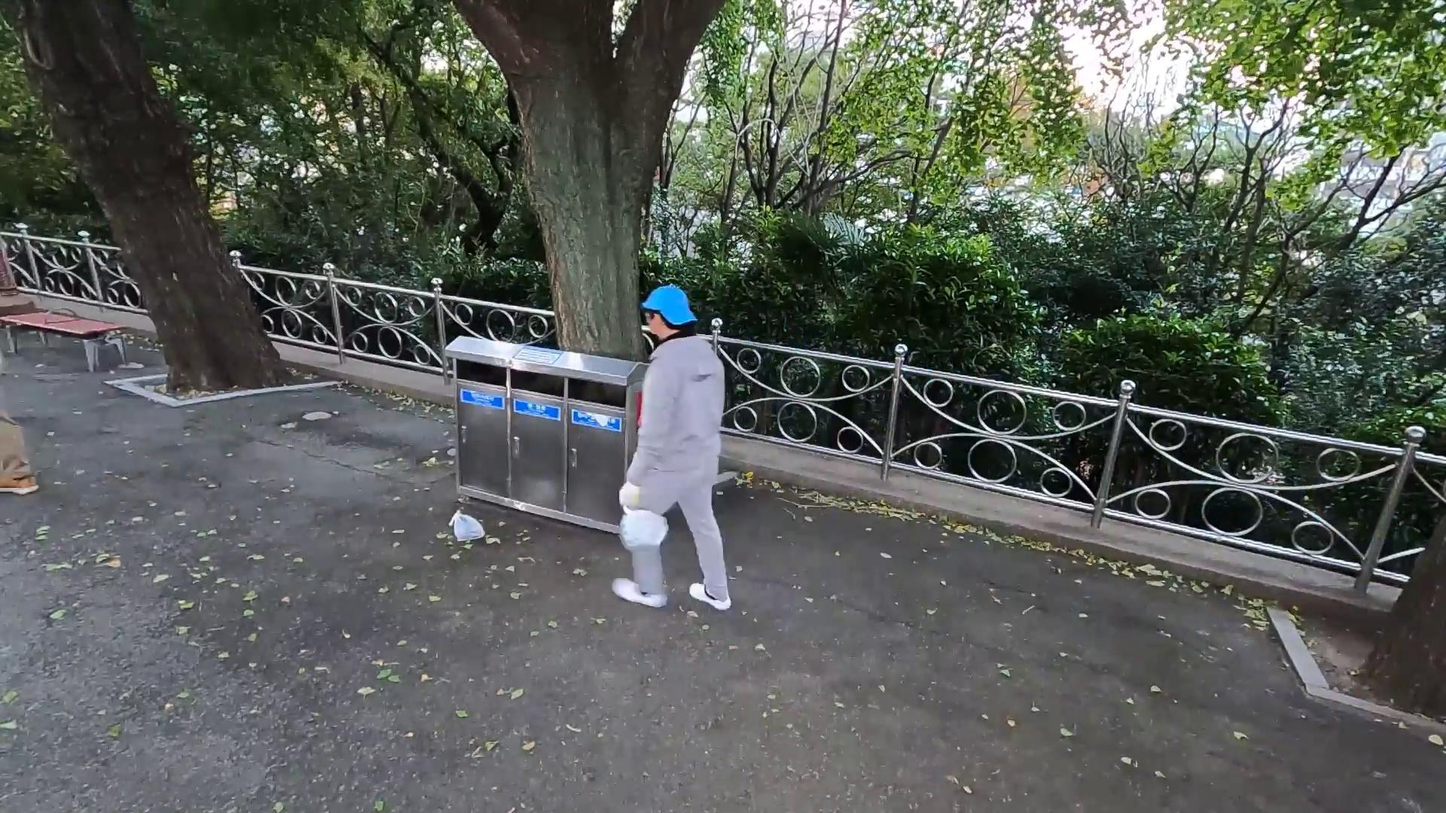trash: (614, 503, 671, 550), (448, 508, 487, 544)
